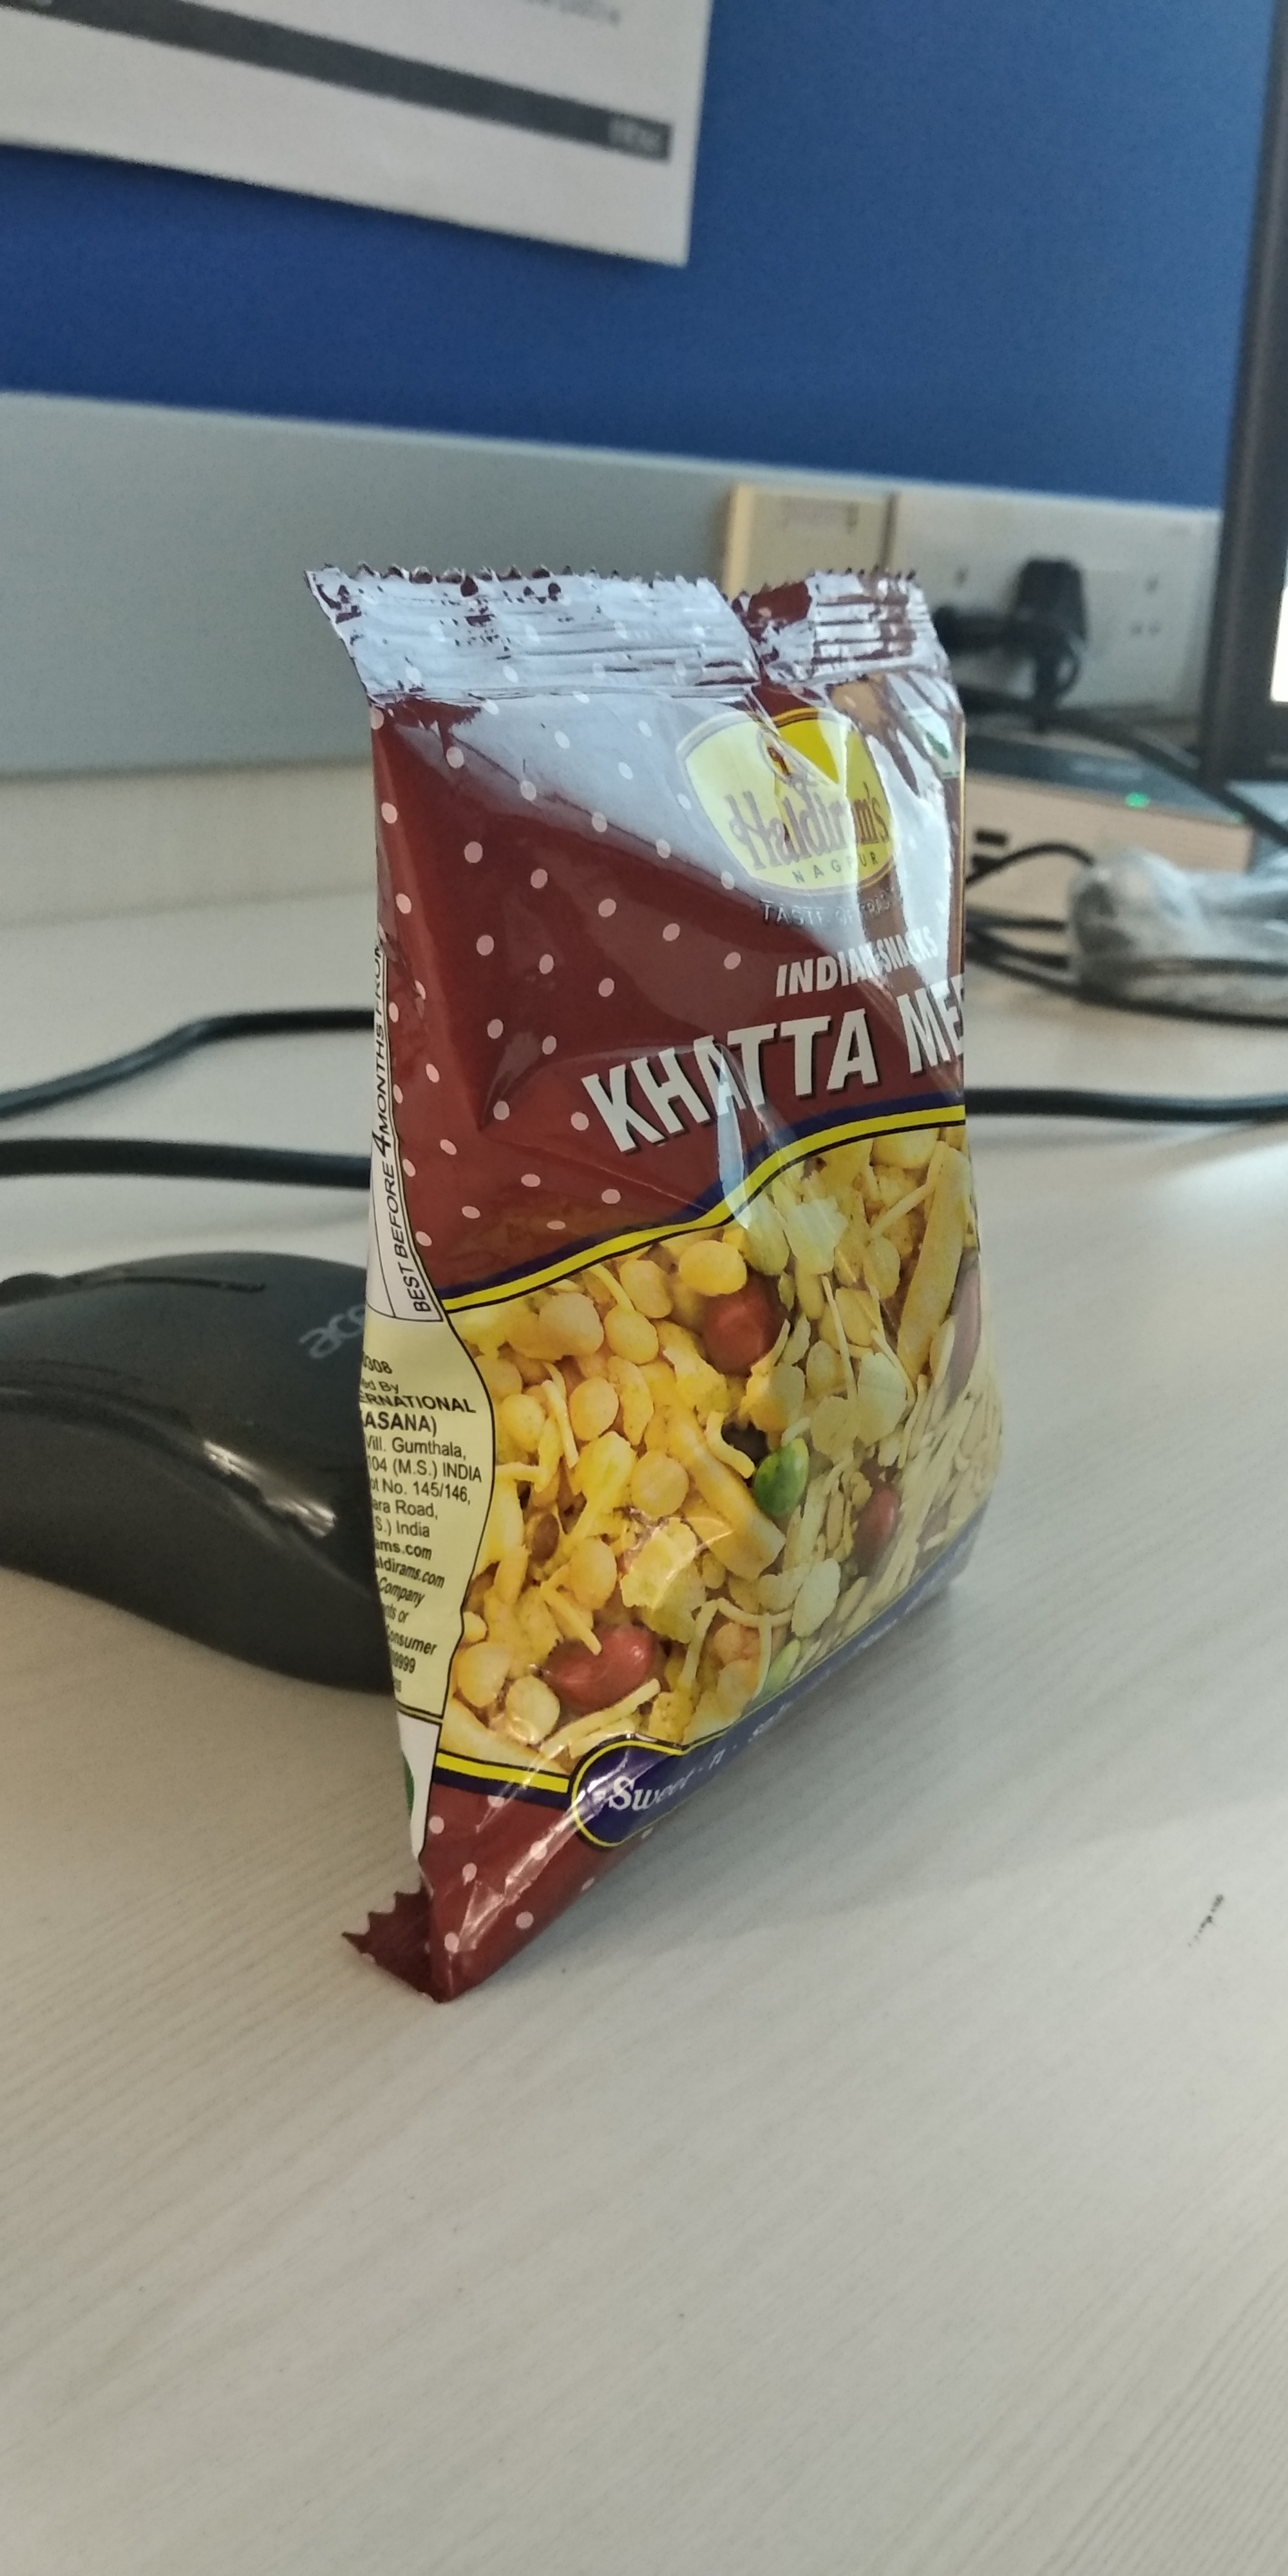khataMeetha: (299, 565, 1017, 2019)
